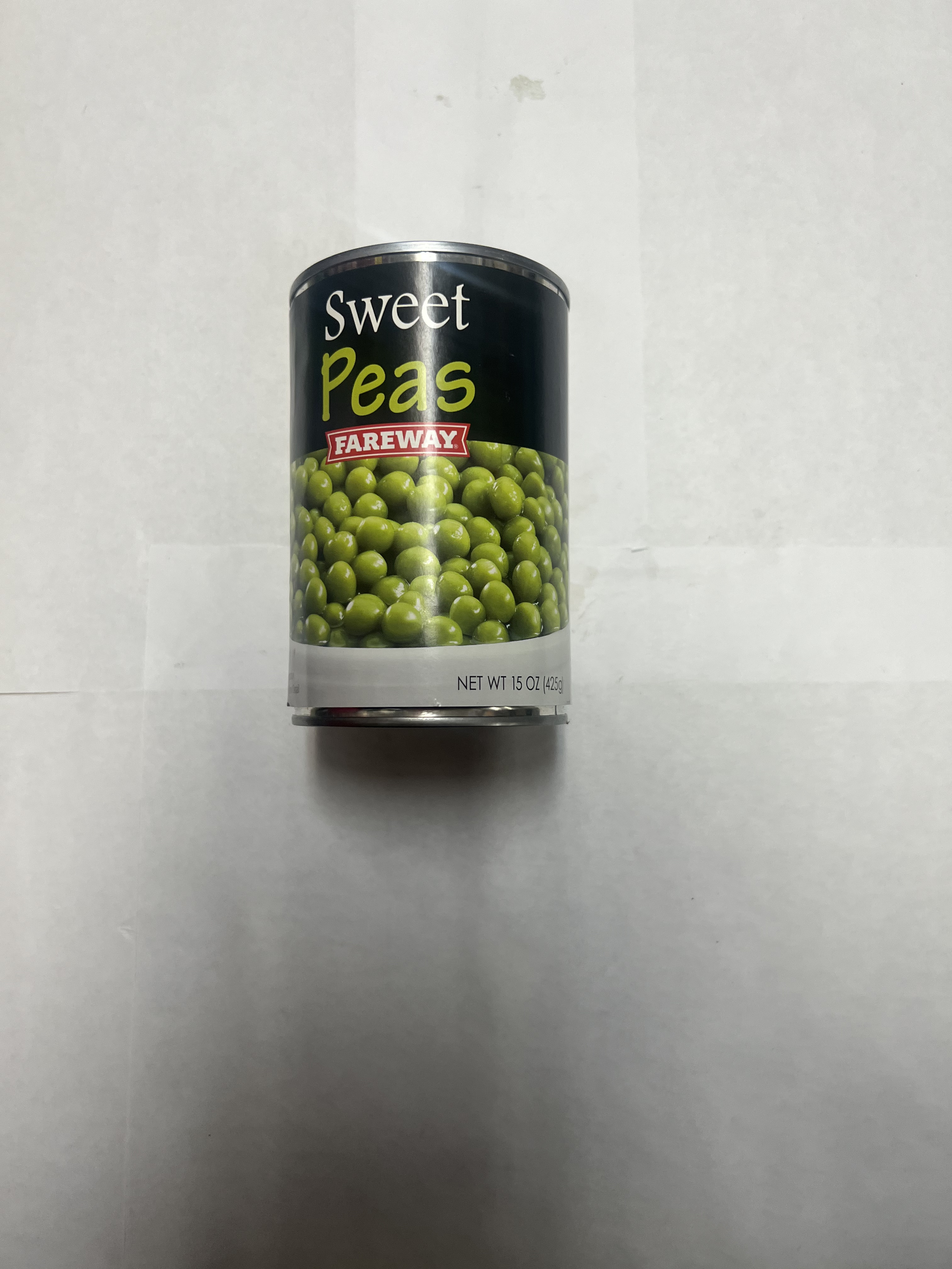packaged: (281, 235, 576, 735)
